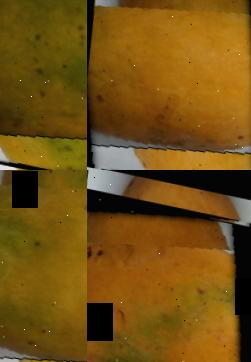PartiallyRipe: (0, 170, 87, 362), (0, 0, 87, 170)
Ripe: (87, 189, 251, 362), (87, 0, 251, 170)
